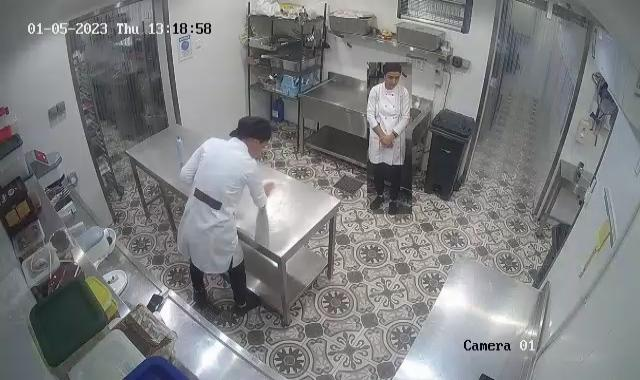no_hairnet: (229, 116, 274, 144), (379, 61, 404, 75)
